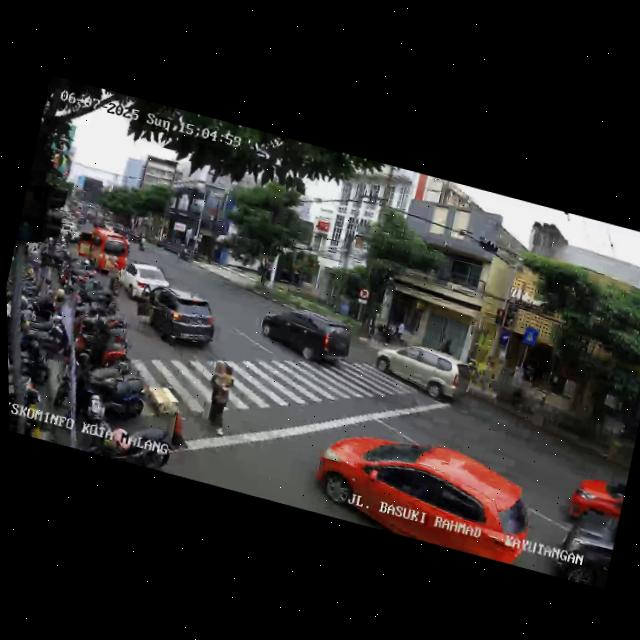car: (307, 415, 543, 568), (253, 298, 355, 374), (372, 334, 471, 409), (132, 281, 223, 358), (552, 502, 621, 590), (562, 461, 630, 541), (70, 223, 132, 279), (115, 257, 173, 306)
person: (194, 357, 242, 441)
